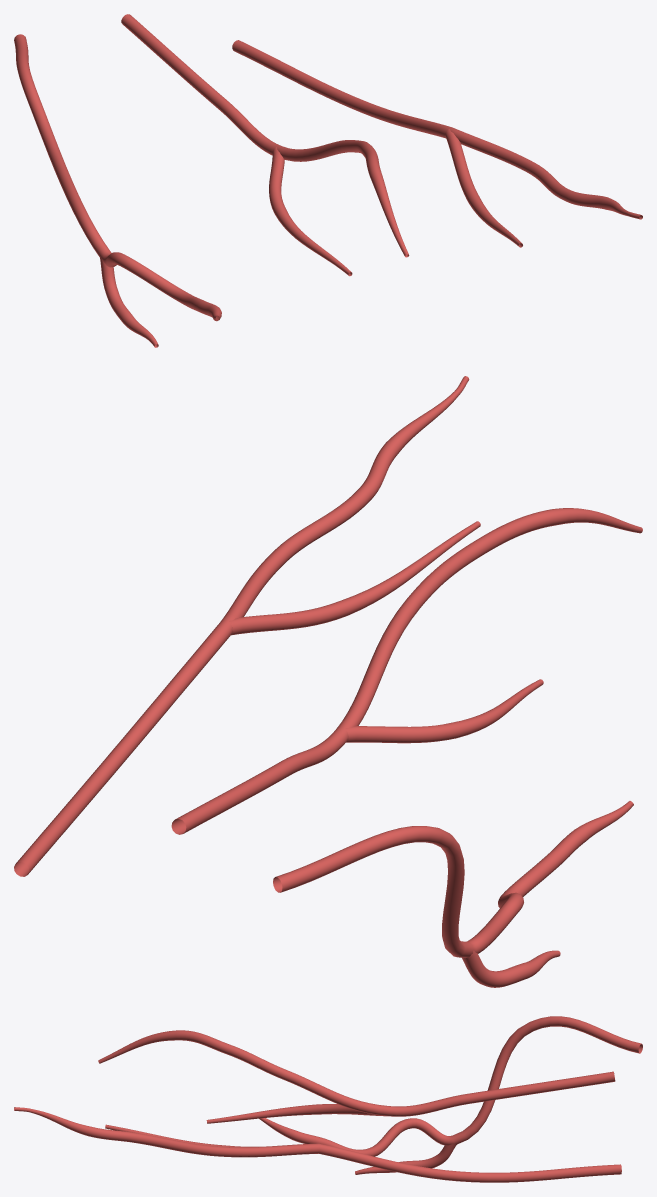
The picture shows the model from 3 angles, top to bottom: view 1: azimuth 30°, elevation 25°; view 2: azimuth 150°, elevation 25°; view 3: azimuth 270°, elevation 25°; orthographic projection. The views are drawn at different scales.
Parts seen in each view (by area): view 1: 左侧近侧外侧豆纹动脉; view 2: 左侧近侧外侧豆纹动脉; view 3: 左侧近侧外侧豆纹动脉.
Part boxes in pixels (left/top/right/bottom): 左侧近侧外侧豆纹动脉: left=14, top=14, right=642, bottom=347; 左侧近侧外侧豆纹动脉: left=14, top=376, right=642, bottom=987; 左侧近侧外侧豆纹动脉: left=14, top=1016, right=642, bottom=1182.
Size of the model in its own units: 0.00864 by 0.006 by 0.018.
